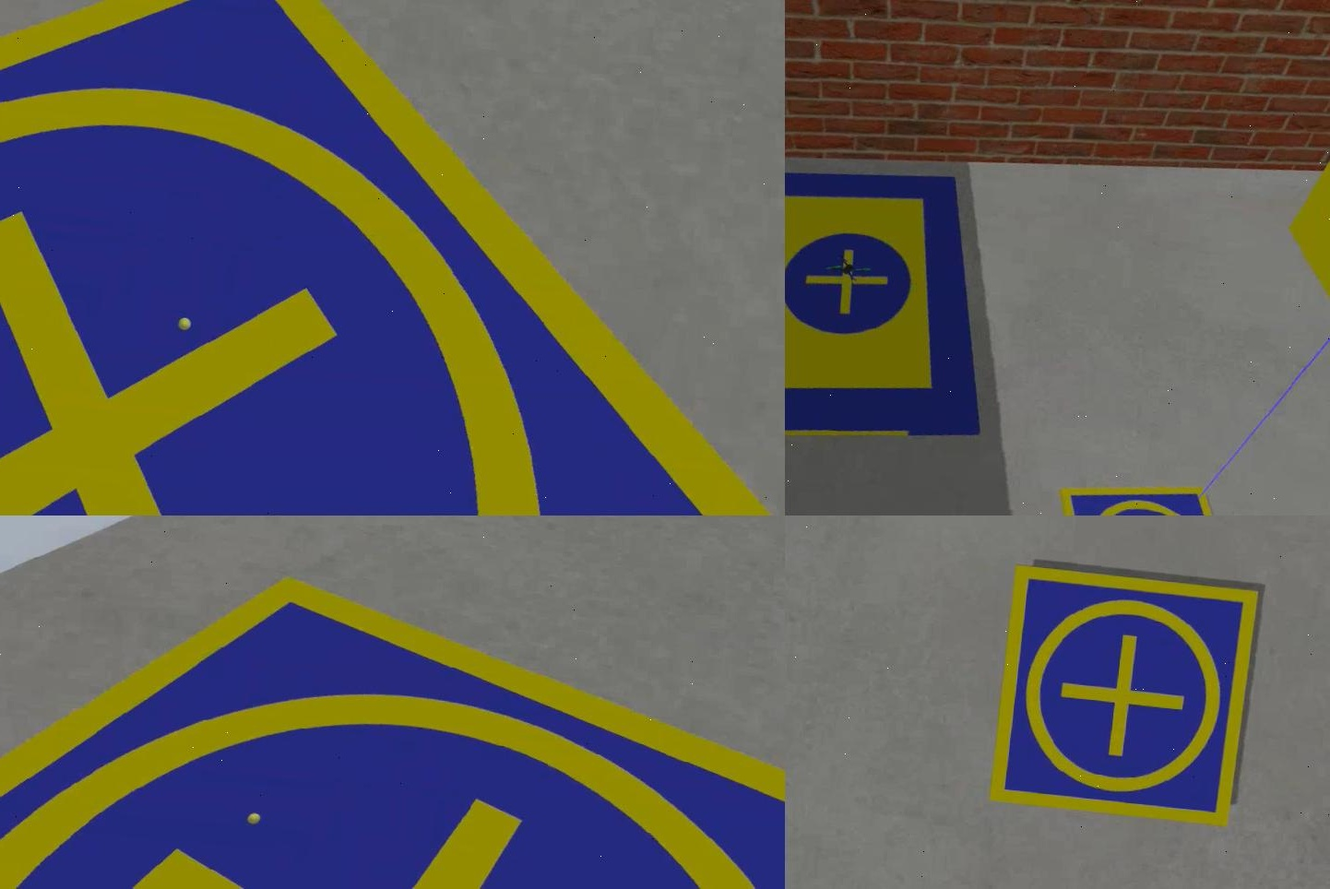large_base: (783, 148, 1001, 462)
small_base: (0, 1, 783, 516), (0, 531, 783, 889), (986, 565, 1261, 827), (1046, 475, 1264, 516)
